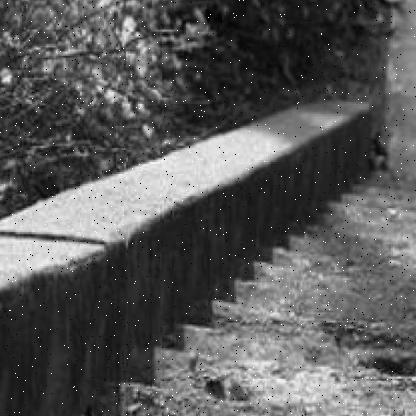stair_up: (200, 240, 416, 415)
